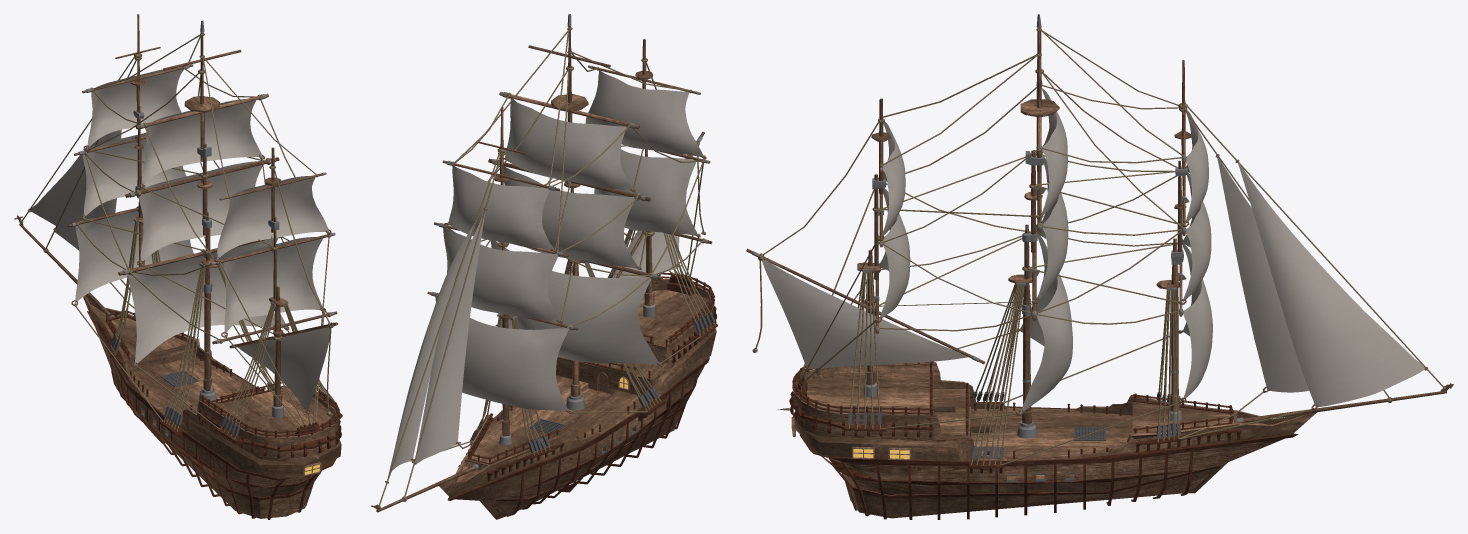
File: galleon.glb
3 renders of one model, left to right at view 1: azimuth 30°, elevation 25°; view 2: azimuth 150°, elevation 25°; view 3: azimuth 270°, elevation 25°, orthographic. The views are drawn at different scales.
Visible parts, largest first — view 1: MainShip, MainSail1, Ropes, MizzenSail1, MainSail2, MainSail3, MizzenSail2, ForeSail1, ForeSail3, ForeSail2, BackJib, MainMast (+15 smaller); view 2: MainShip, MainSail1, ForeSail1, MainSail3, Jib, MainSail2, ForeSail2, Ropes, MizzenSail2, ForeSail3, MizzenSail1, FlyingJib (+15 smaller); view 3: MainShip, FlyingJib, Ropes, BackJib, Jib, MainSail1, MainMast, MainShrouds, Cylinder.004, KeelDetail, ForeMast, ForeSail1 (+12 smaller).
Part boxes in pixels (x1=…): MainShip: x1=83, y1=294, x2=342, y2=518; MainSail1: x1=127, y1=237, x2=287, y2=365; Ropes: x1=21, y1=34, x2=331, y2=429; MizzenSail1: x1=223, y1=237, x2=322, y2=334; MainSail2: x1=138, y1=161, x2=263, y2=262; MainSail3: x1=141, y1=99, x2=262, y2=186; MizzenSail2: x1=217, y1=176, x2=328, y2=259; ForeSail1: x1=75, y1=208, x2=193, y2=302; ForeSail3: x1=87, y1=68, x2=183, y2=148; ForeSail2: x1=82, y1=132, x2=186, y2=217; BackJib: x1=237, y1=327, x2=329, y2=411; MainMast: x1=184, y1=20, x2=220, y2=402; MainShip: x1=439, y1=278, x2=717, y2=519; MainSail1: x1=490, y1=240, x2=659, y2=364; ForeSail1: x1=435, y1=295, x2=569, y2=411; MainSail3: x1=505, y1=98, x2=632, y2=191; Jib: x1=414, y1=213, x2=485, y2=465; MainSail2: x1=503, y1=166, x2=637, y2=268; ForeSail2: x1=443, y1=226, x2=559, y2=321; Ropes: x1=379, y1=30, x2=703, y2=505; MizzenSail2: x1=585, y1=70, x2=703, y2=156; ForeSail3: x1=448, y1=165, x2=553, y2=249; MizzenSail1: x1=594, y1=149, x2=697, y2=235; FlyingJib: x1=388, y1=223, x2=474, y2=476; MainShip: x1=789, y1=362, x2=1316, y2=518; FlyingJib: x1=1238, y1=162, x2=1425, y2=406; Ropes: x1=755, y1=30, x2=1443, y2=465; BackJib: x1=762, y1=259, x2=968, y2=368; Jib: x1=1217, y1=157, x2=1308, y2=392; MainSail1: x1=1019, y1=234, x2=1072, y2=414; MainMast: x1=1008, y1=14, x2=1059, y2=438; MainShrouds: x1=970, y1=283, x2=1024, y2=464; Cylinder.004: x1=792, y1=361, x2=1233, y2=458; KeelDetail: x1=821, y1=451, x2=1193, y2=519; ForeMast: x1=1156, y1=60, x2=1191, y2=421; ForeSail1: x1=1182, y1=244, x2=1212, y2=400.
Bounding box in the file's own units: 159 × 389 × 511.
8 materials, 8 textured.
